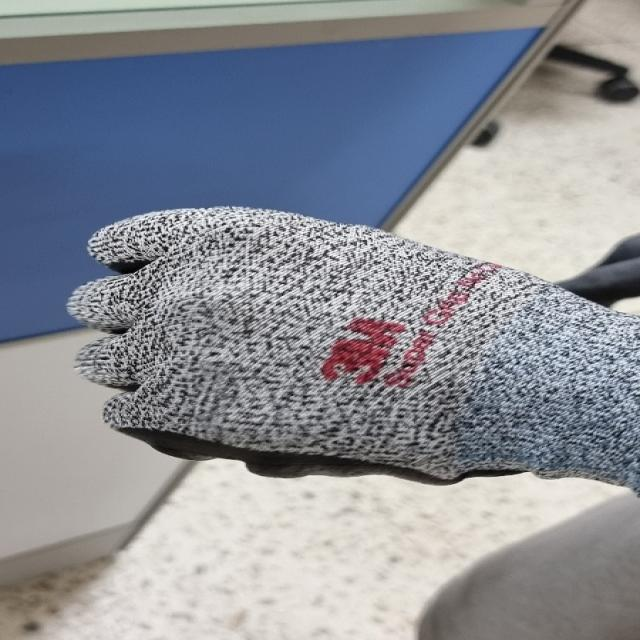Gloves: (74, 205, 632, 490)
